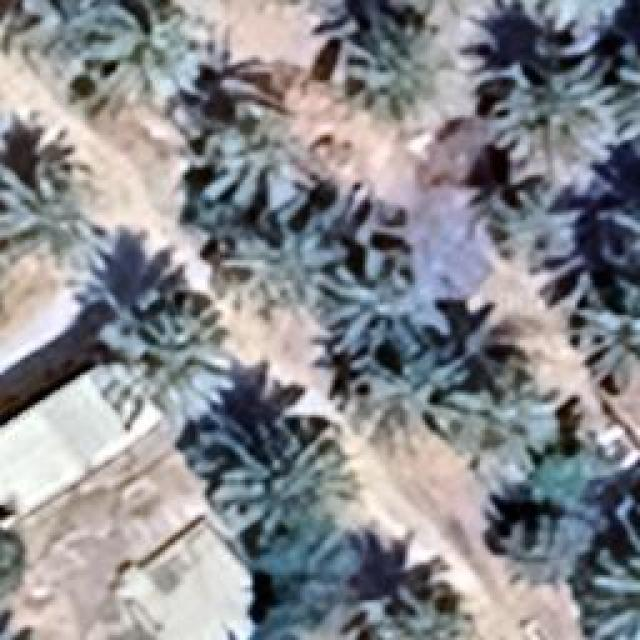PalmTree: (208, 417, 360, 565), (98, 295, 238, 440), (208, 72, 342, 220), (344, 338, 478, 468), (488, 62, 622, 190), (27, 94, 626, 121), (89, 0, 212, 112), (0, 160, 85, 300), (311, 241, 431, 331), (460, 380, 562, 475), (222, 215, 342, 280), (568, 285, 638, 393), (253, 578, 369, 640), (103, 74, 375, 100), (5, 0, 106, 63), (495, 512, 575, 590), (495, 188, 575, 262), (574, 550, 638, 638), (384, 584, 478, 638), (388, 0, 514, 26), (611, 174, 640, 286), (0, 499, 25, 611), (520, 0, 620, 25)
